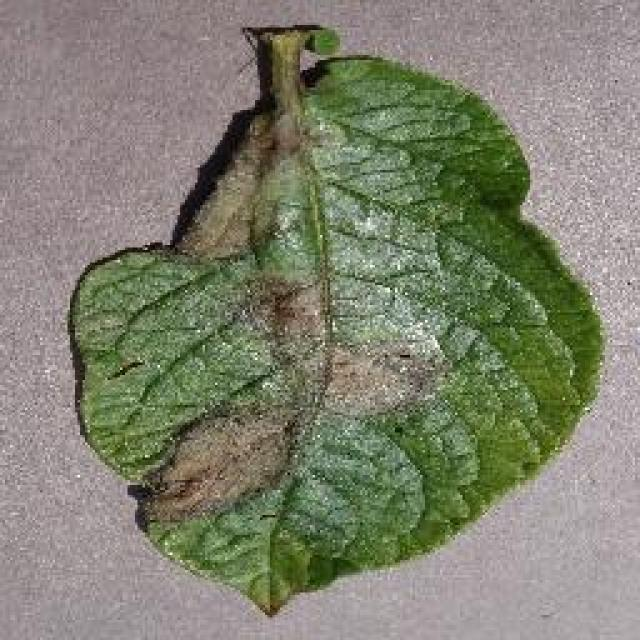Late_blight: (62, 15, 612, 620)
